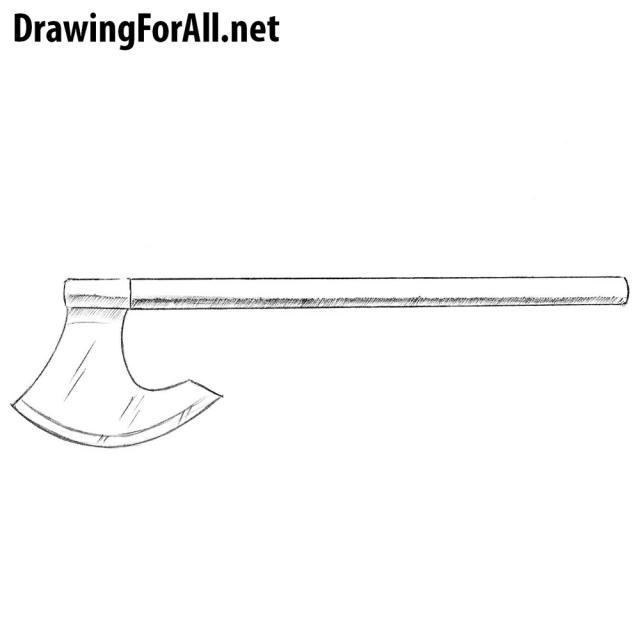Gun: (29, 206, 640, 488)
